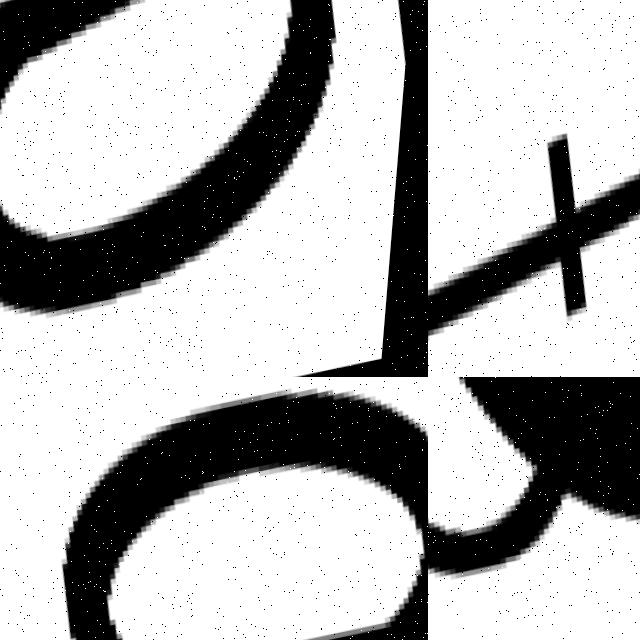8: (428, 377, 640, 609)
F: (428, 135, 640, 342)
P: (67, 389, 428, 640)
Q: (0, 0, 412, 372)
